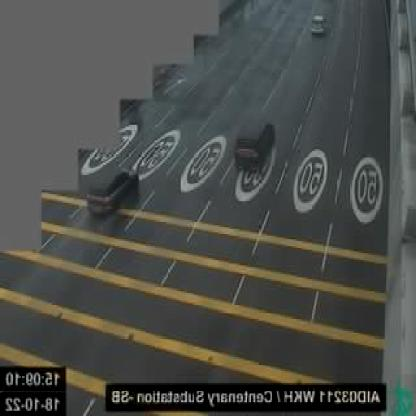Car: (84, 164, 138, 216), (234, 119, 276, 171), (310, 12, 327, 38)
